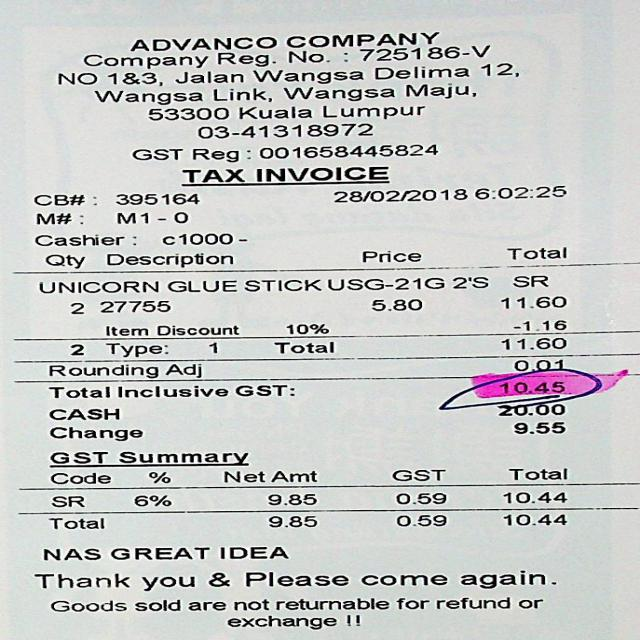text: (284, 30, 441, 48), (130, 33, 274, 52), (258, 143, 436, 158), (196, 123, 370, 138), (254, 166, 387, 182), (357, 44, 488, 60), (80, 52, 209, 68), (332, 187, 466, 202), (116, 451, 247, 465), (104, 253, 231, 267), (458, 570, 554, 588), (228, 614, 334, 630), (281, 86, 393, 101), (37, 280, 156, 293), (244, 571, 347, 586), (46, 364, 156, 378), (32, 572, 128, 588), (325, 277, 443, 290), (92, 90, 201, 104), (250, 70, 362, 83), (275, 597, 387, 610), (404, 80, 474, 100), (48, 426, 140, 441), (373, 65, 468, 79), (321, 105, 423, 118), (116, 385, 226, 397), (34, 233, 134, 246), (108, 546, 208, 559), (473, 185, 565, 199), (114, 192, 198, 205), (146, 107, 228, 120), (46, 515, 102, 533), (215, 51, 274, 68), (361, 248, 422, 264), (434, 596, 509, 609), (237, 106, 310, 119), (241, 279, 320, 291), (505, 244, 568, 259), (104, 342, 167, 357), (160, 232, 232, 245), (49, 599, 125, 611), (116, 211, 186, 224), (48, 407, 118, 420), (156, 324, 238, 335), (166, 279, 235, 292), (211, 87, 270, 102), (174, 70, 242, 83), (181, 168, 243, 182), (500, 490, 566, 503), (360, 575, 445, 585), (497, 402, 562, 415), (98, 300, 168, 312), (500, 295, 564, 308), (218, 546, 287, 558), (503, 381, 566, 394), (191, 148, 249, 162), (106, 71, 160, 86), (33, 193, 95, 206), (140, 576, 193, 591), (48, 471, 109, 484), (272, 340, 332, 353), (500, 337, 564, 349), (507, 467, 565, 480), (43, 547, 99, 560), (48, 386, 108, 398), (502, 514, 566, 525), (234, 384, 292, 396), (48, 451, 106, 463), (512, 421, 564, 434), (370, 298, 420, 311), (394, 491, 444, 504), (266, 492, 315, 505), (391, 469, 444, 481), (512, 359, 564, 371), (130, 148, 181, 160), (132, 598, 179, 611), (267, 515, 315, 527), (480, 62, 517, 77), (269, 470, 315, 482), (394, 515, 444, 526), (44, 254, 83, 268), (164, 363, 199, 378), (35, 213, 81, 224), (222, 470, 264, 482), (514, 320, 564, 330), (287, 50, 325, 63), (56, 72, 95, 84), (285, 323, 327, 334), (512, 274, 547, 287), (451, 275, 486, 288), (104, 326, 146, 336), (232, 598, 267, 610), (132, 495, 170, 506), (395, 597, 428, 609), (186, 600, 224, 610), (49, 496, 83, 507), (206, 572, 228, 586), (147, 470, 169, 483), (518, 598, 541, 608), (344, 614, 358, 626), (69, 302, 82, 314), (69, 344, 82, 355), (209, 341, 215, 353)
